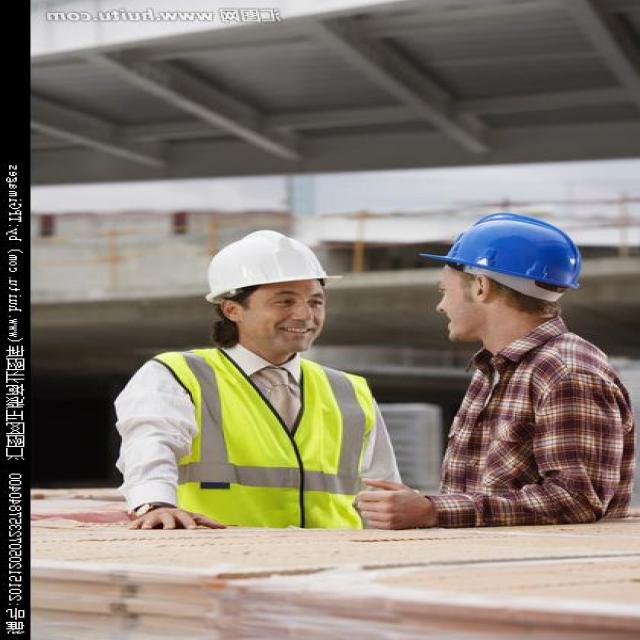Reflective-Jacket: (144, 344, 388, 534)
Safety-Helmet: (420, 210, 590, 298), (193, 225, 343, 306)
